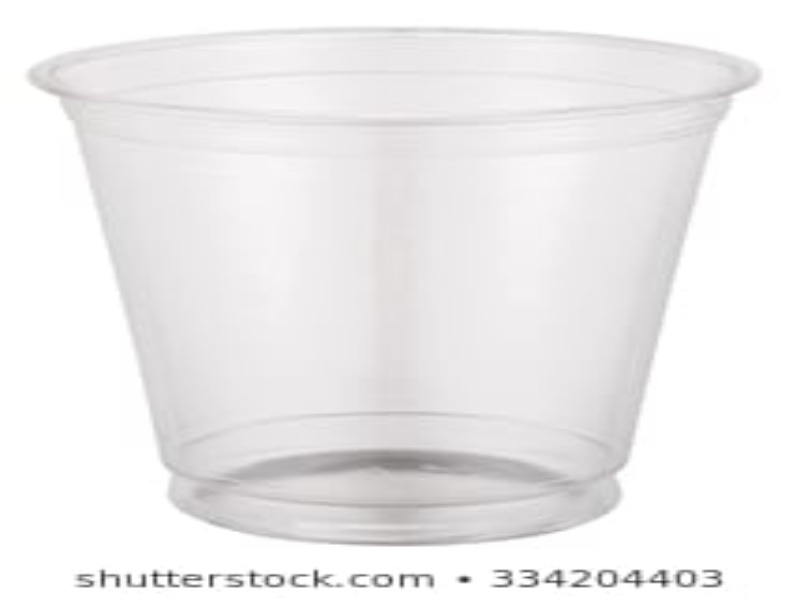plastic-cup: (24, 31, 764, 546)
